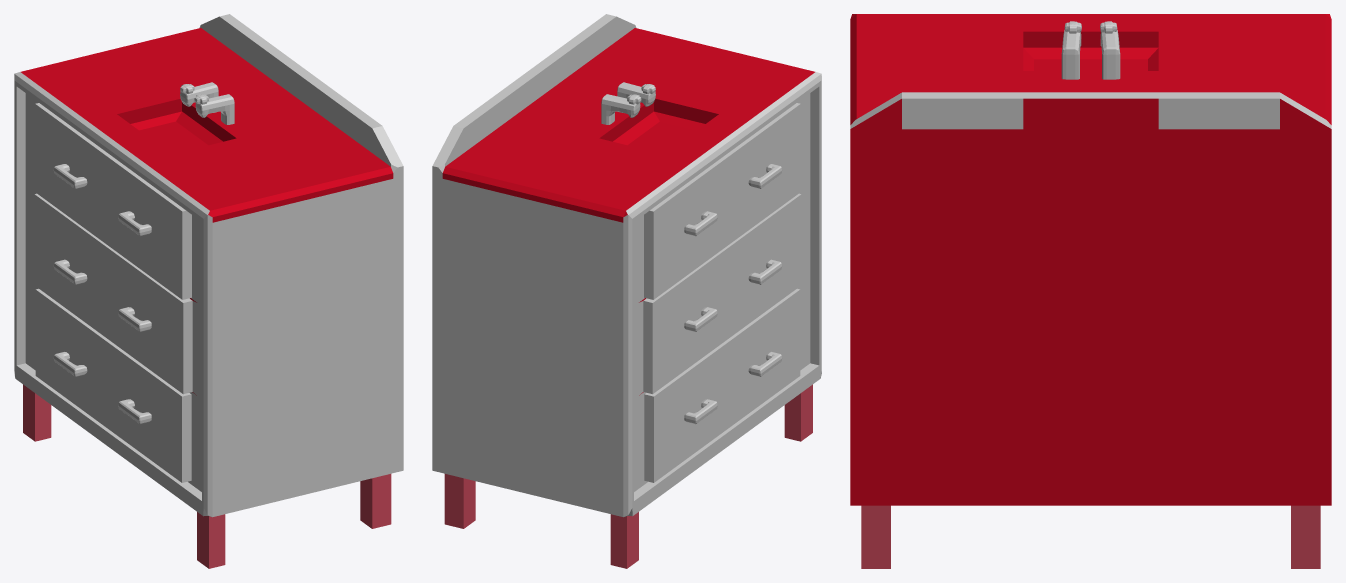
The model's file is Hand.fbx.
3 renders of one model, left to right at view 1: azimuth 30°, elevation 25°; view 2: azimuth 150°, elevation 25°; view 3: azimuth 270°, elevation 25°, orthographic. The views are drawn at different scales.
Parts seen in each view (by area): view 1: Hand; view 2: Hand; view 3: Hand.
Boxes of the visible parts, x1,y1,x2,y2 form: Hand: [14, 14, 403, 568]; Hand: [432, 14, 821, 568]; Hand: [850, 14, 1331, 568].
Bounding box in the file's own units: 1.58 × 2.82 × 2.55.
